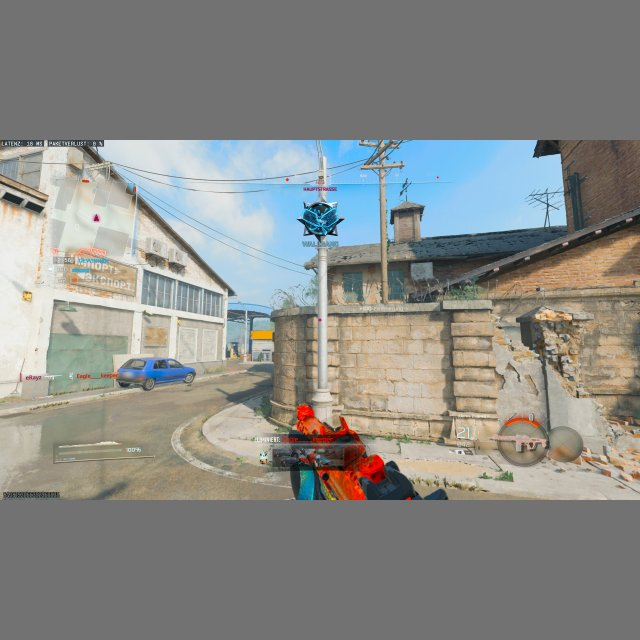player: (298, 201, 344, 242)
